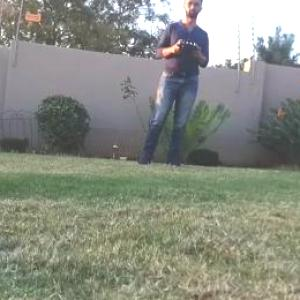follow: (130, 0, 214, 172)
